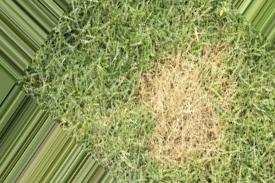patch: (148, 49, 221, 149)
